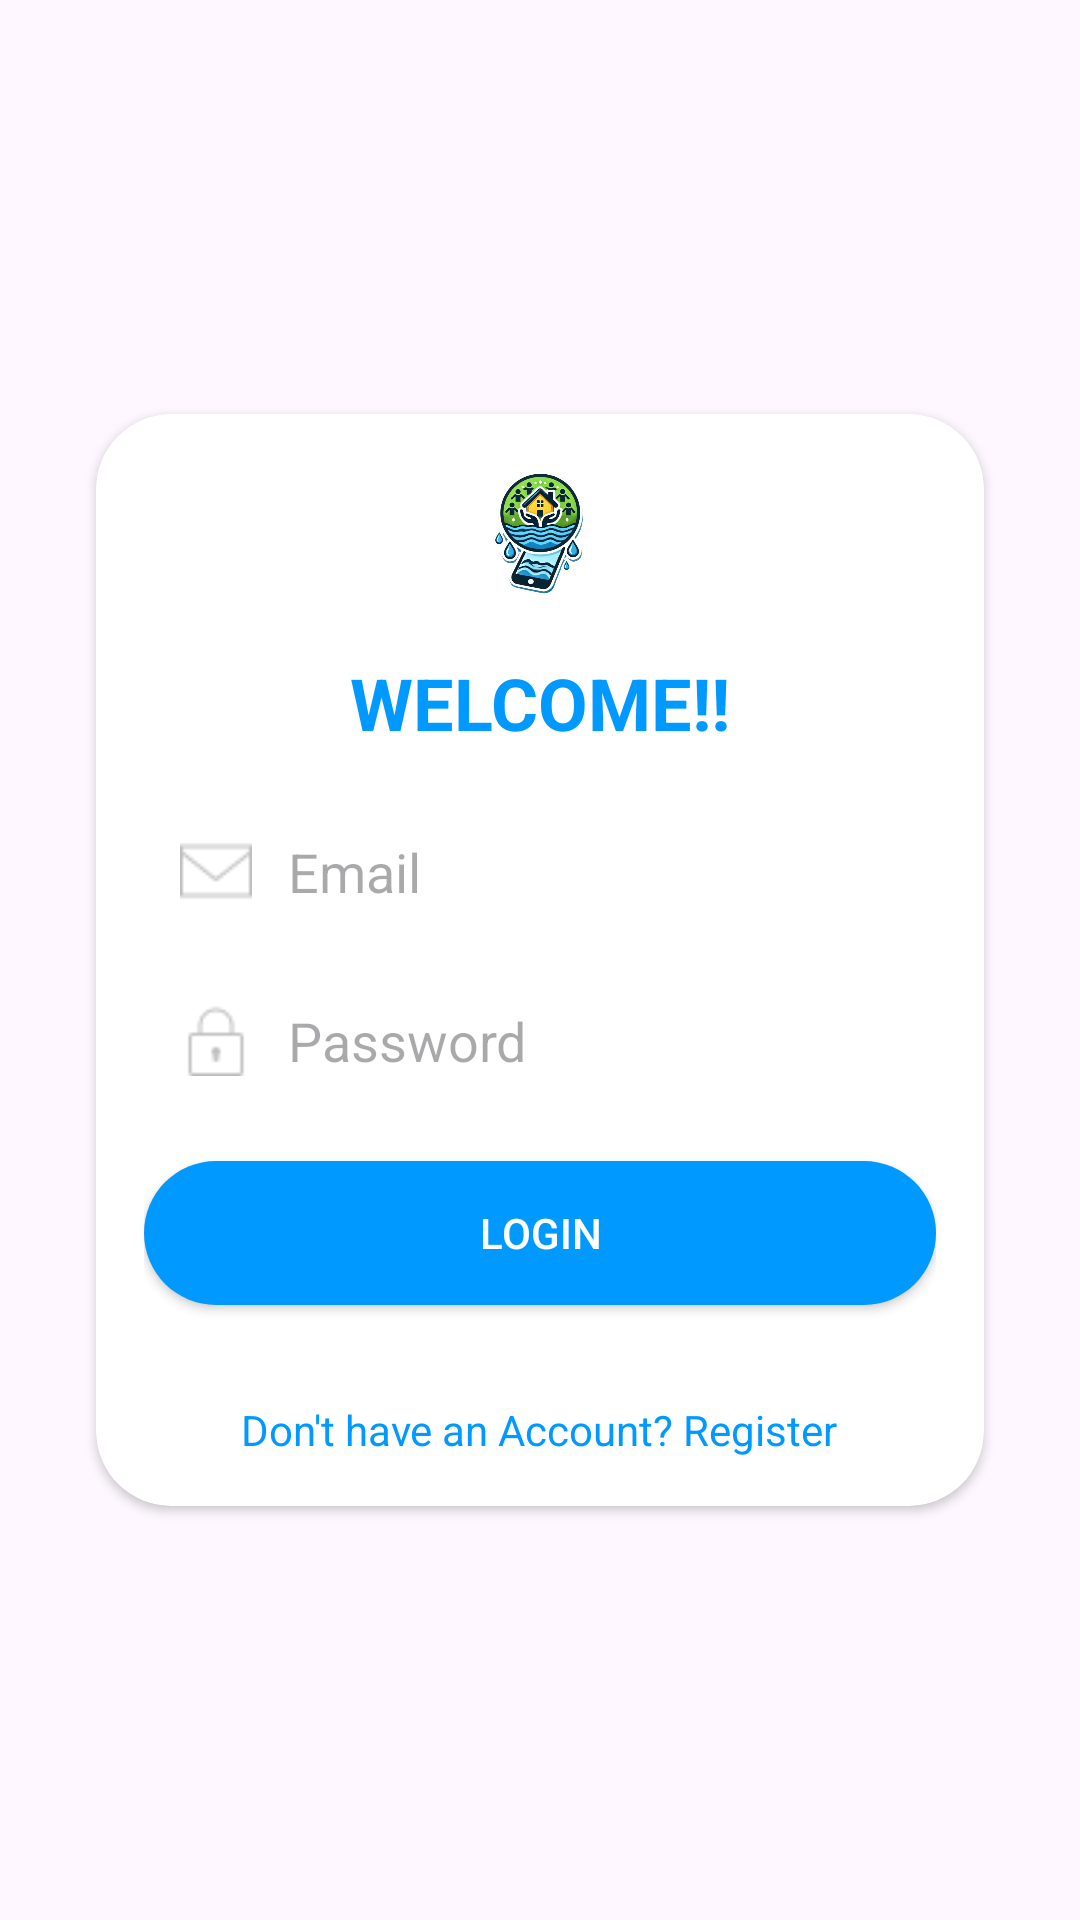

Named icons in this screenshot (1080×1920) and their centers, (x,y):
flood: (539,534)
lock: (216,1042)
